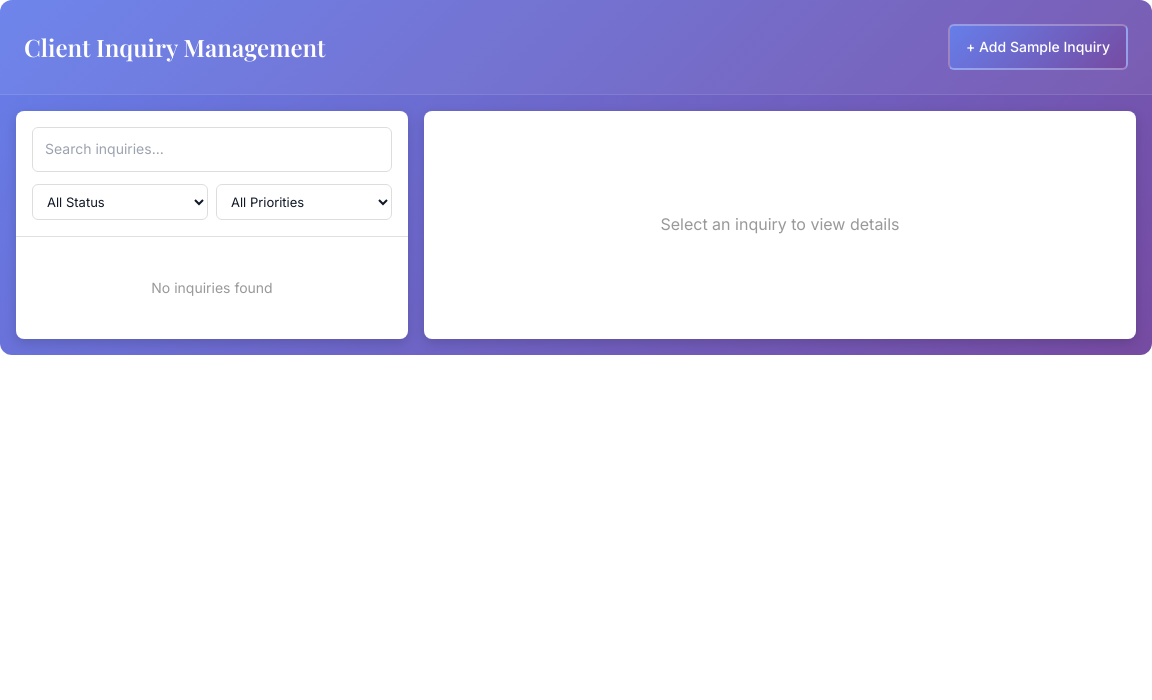
Test: InquiryManagement Component › Inquiry Selection and Details › should display inquiry details when selected
What coordinates should you click on to do the following:
click the button with test id "btn-add-inquiry"
I would click on:
 (1038, 47)
Its box is [948,24,1128,70].
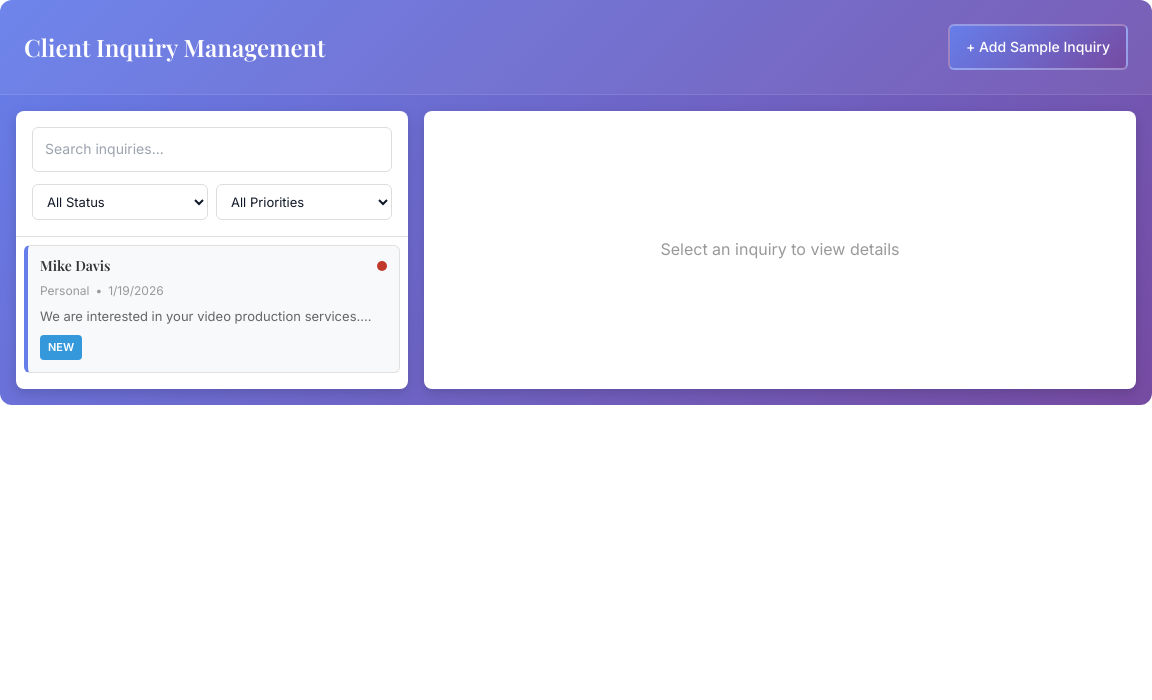
Now the text "No inquiries found" is gone
What coordinates should you click on to do the following:
click the element with test id "^inquiry-item-"
I would click on:
 (212, 309)
Its box is [24,245,400,373].
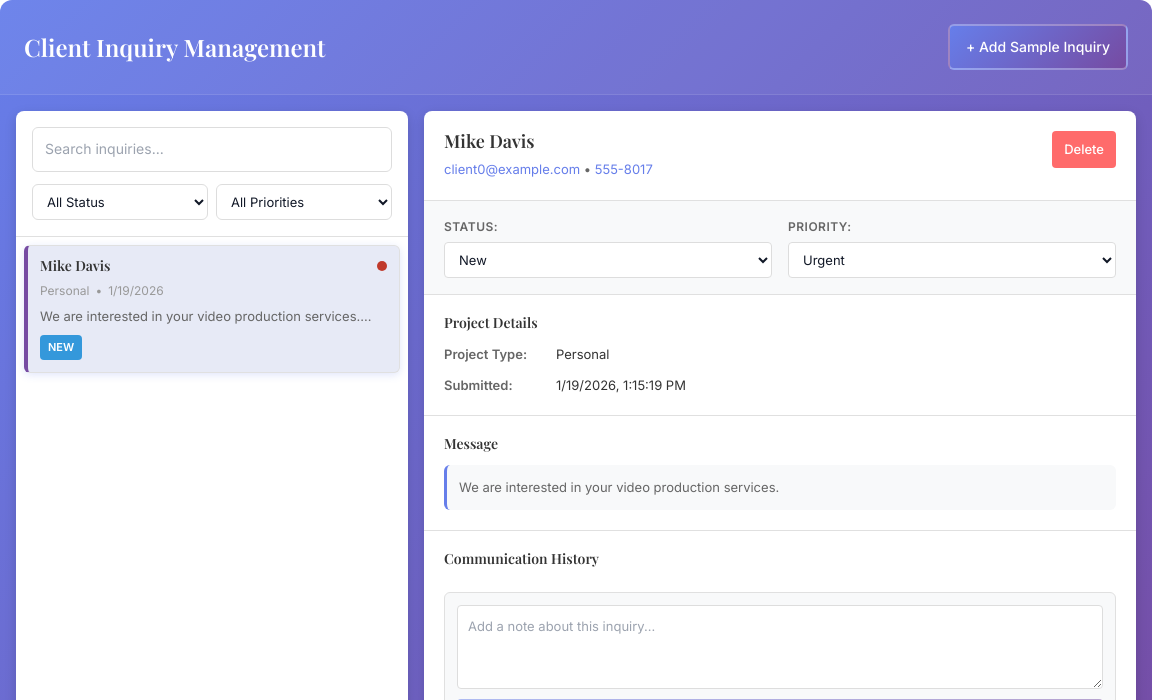
Now the dropdown with test id "inquiry-status-select" is shown, box [444,242,772,278]
Now the dropdown with test id "inquiry-priority-select" is shown, box [788,242,1116,278]
